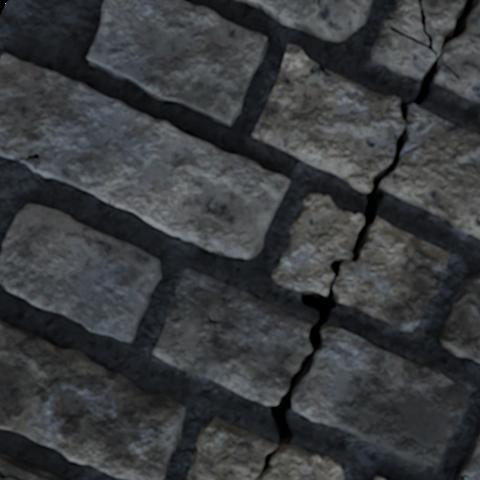brick: (0, 54, 289, 258), (0, 320, 184, 479), (87, 0, 267, 125), (0, 204, 160, 341), (235, 0, 371, 41), (439, 272, 479, 361), (0, 454, 60, 479), (456, 429, 479, 479), (374, 475, 386, 479)
broken_brick: (291, 325, 469, 466), (250, 43, 403, 193), (152, 267, 310, 406), (381, 105, 479, 240), (337, 216, 449, 333), (185, 416, 345, 479), (270, 192, 363, 294), (370, 0, 434, 81), (433, 5, 479, 104), (422, 0, 464, 53)
crack: (258, 0, 479, 477), (0, 468, 24, 479), (14, 152, 40, 161), (0, 0, 9, 22), (460, 387, 469, 397), (458, 474, 469, 479), (316, 0, 322, 9), (444, 251, 448, 257)
